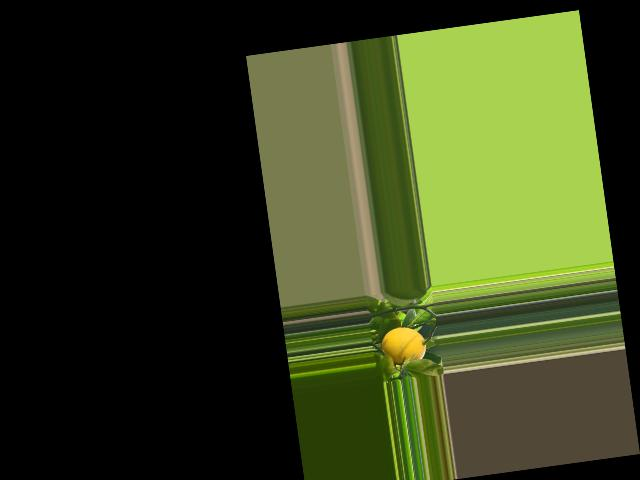lemon: (380, 320, 432, 372)
